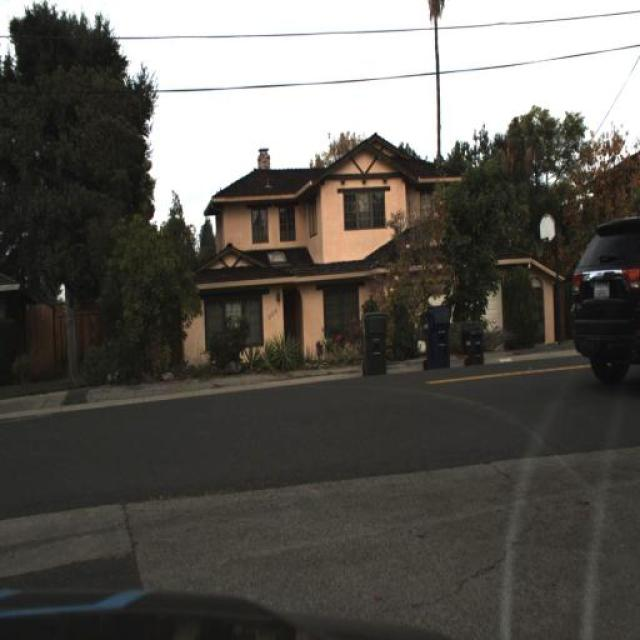car: (570, 215, 640, 386)
